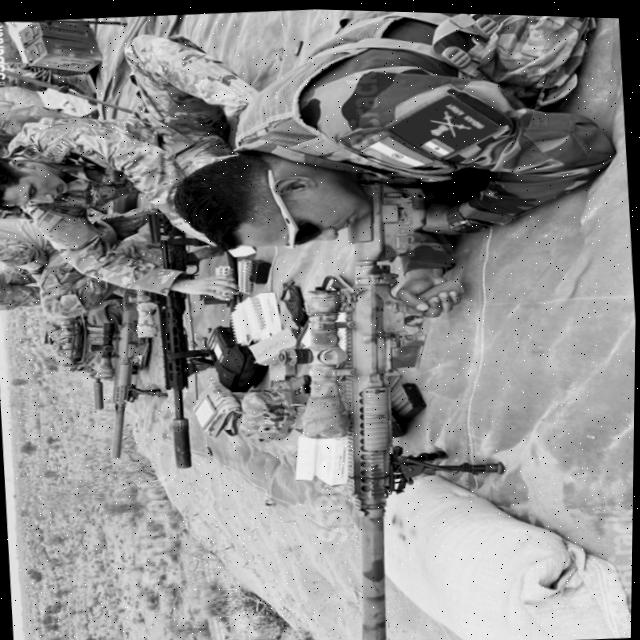firearm: (263, 175, 484, 640), (148, 230, 236, 468), (88, 290, 163, 459)
